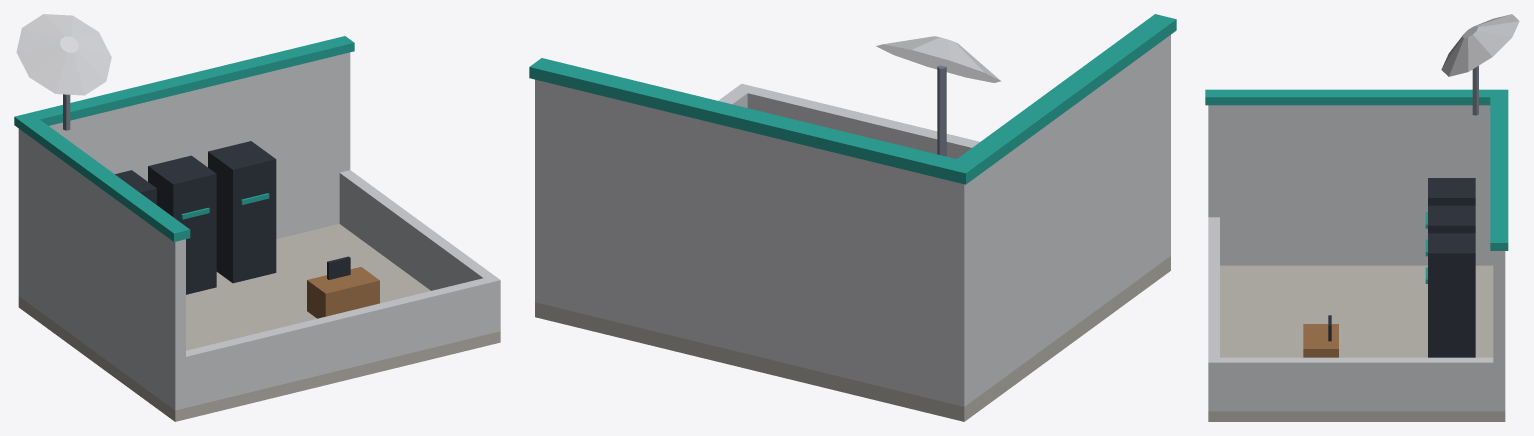
File: it_center.glb
3 views of the same model, side by side, from view 1: azimuth 30°, elevation 25°; view 2: azimuth 150°, elevation 25°; view 3: azimuth 270°, elevation 25° (orthographic). The views are drawn at different scales.
Visible parts, largest first — view 1: it_center; view 2: it_center; view 3: it_center.
Boxes of the visible parts, x1,y1,x2,y2 form: it_center: (14, 14, 500, 421); it_center: (529, 14, 1176, 421); it_center: (1205, 14, 1519, 421).
Size of the model in its own units: 6.21 by 4.93 by 5.29.
